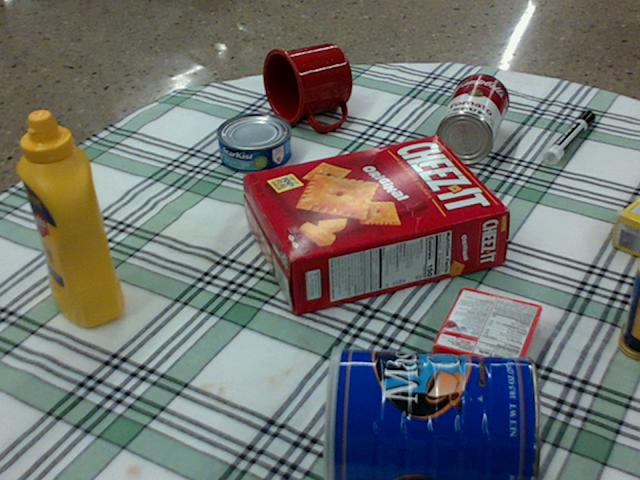cracker_box: (244, 137, 507, 315)
gelatin_box: (433, 287, 541, 385)
large_marker: (542, 111, 594, 162)
master_chef_can: (326, 349, 543, 479)
mug: (261, 44, 352, 129)
mustard_bottle: (16, 110, 123, 327)
potted_meat_can: (618, 251, 639, 358)
sugar_box: (614, 200, 639, 257)
tomato_soup_can: (435, 73, 508, 162)
tuna_fish_can: (215, 113, 290, 171)
